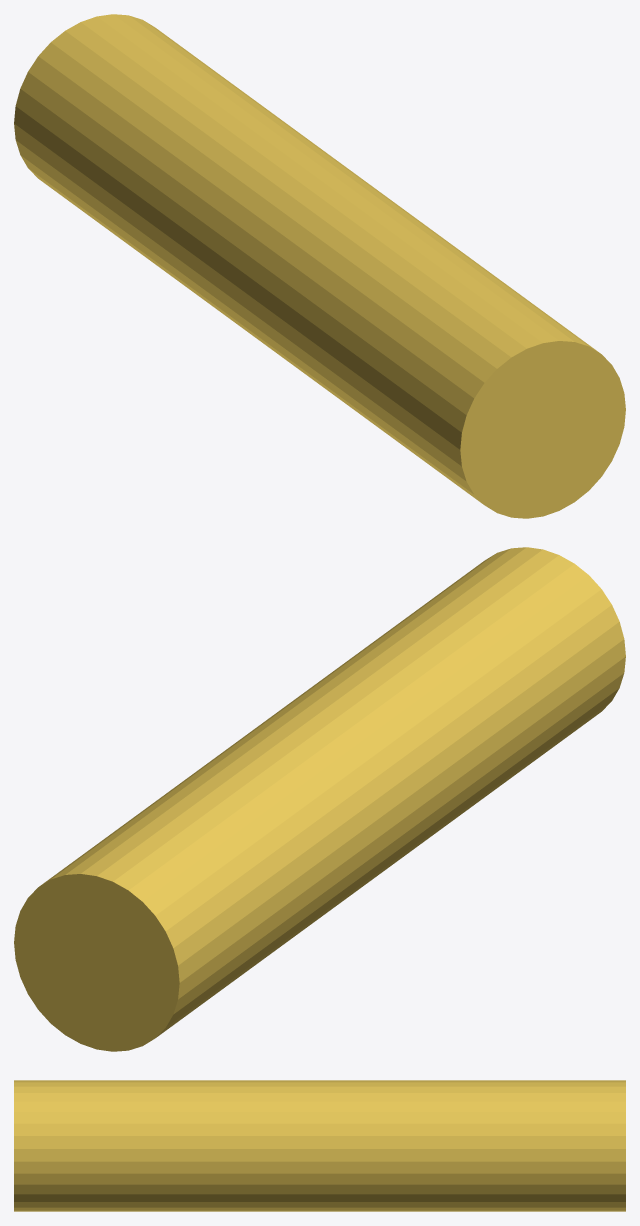
File: CO_AgnipakshaBomber.fbx
3 views of the same model, one above another, from view 1: azimuth 30°, elevation 25°; view 2: azimuth 150°, elevation 25°; view 3: azimuth 270°, elevation 25° (orthographic). The views are drawn at different scales.
Parts seen in each view (by area): view 1: Cylinder; view 2: Cylinder; view 3: Cylinder.
Part boxes in pixels (x1,y1,x2,y2): Cylinder: [14, 14, 625, 518]; Cylinder: [14, 547, 625, 1051]; Cylinder: [14, 1080, 625, 1211].
Size of the model in its own units: 90 by 90 by 420.
